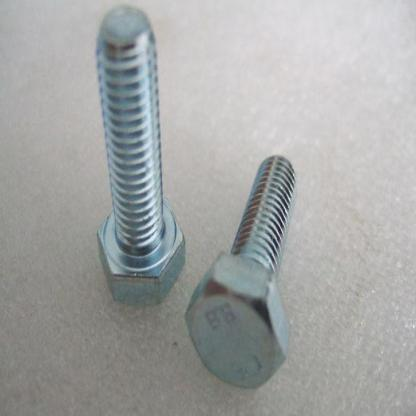FOD: (184, 152, 300, 393), (96, 6, 188, 308)
